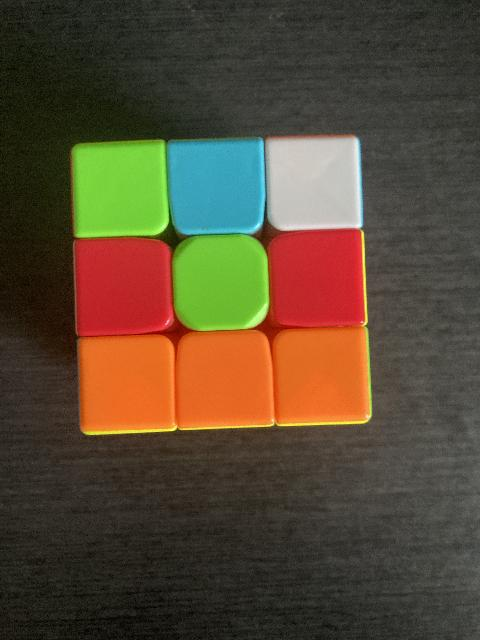Blue: (172, 144, 264, 230)
Green: (174, 238, 268, 328), (74, 146, 164, 232)
Orange: (180, 334, 272, 426), (78, 340, 172, 430), (278, 332, 369, 422)
Red: (75, 241, 171, 331), (271, 235, 365, 322)
White: (272, 141, 360, 227)
